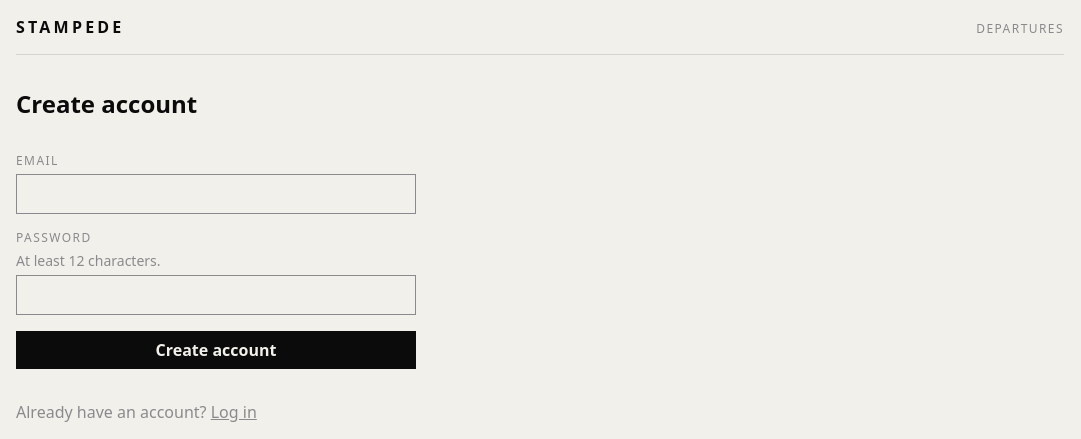
Test: RegisterPage › registers, then logs in with the same credentials and goes to next
Type "new@test.local" into the field labelled "Email" at (216, 194), box [16,174,416,214]
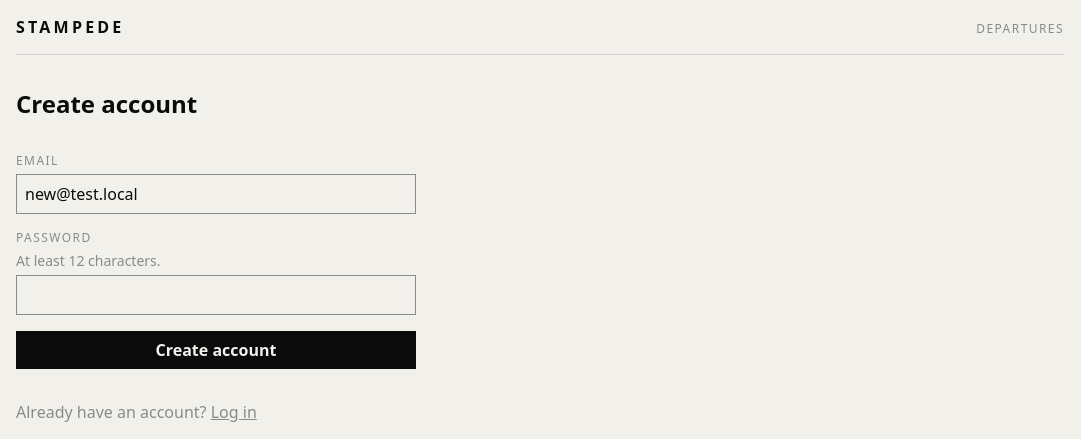
Type "a-long-enough-password" into the password field labelled "Password" at (216, 295), box [16,275,416,315]
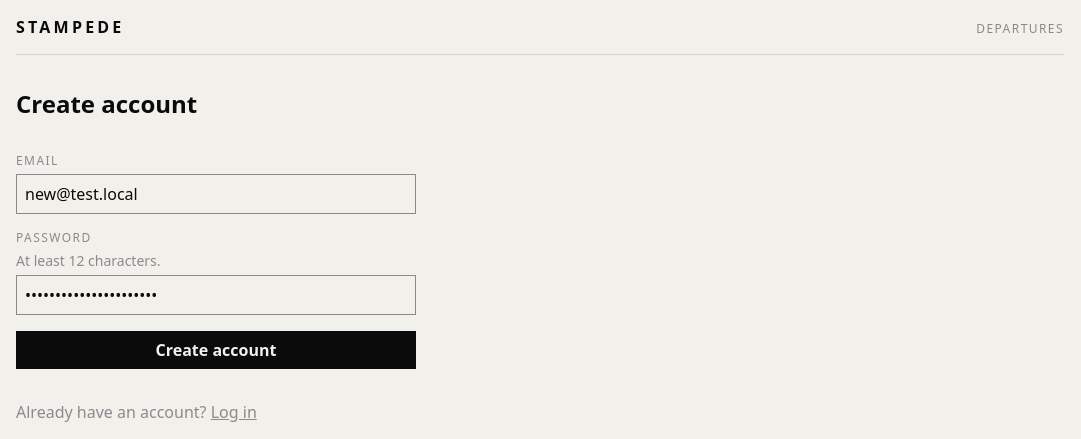
Click the button "Create account" at (216, 350), box [16,331,416,369]
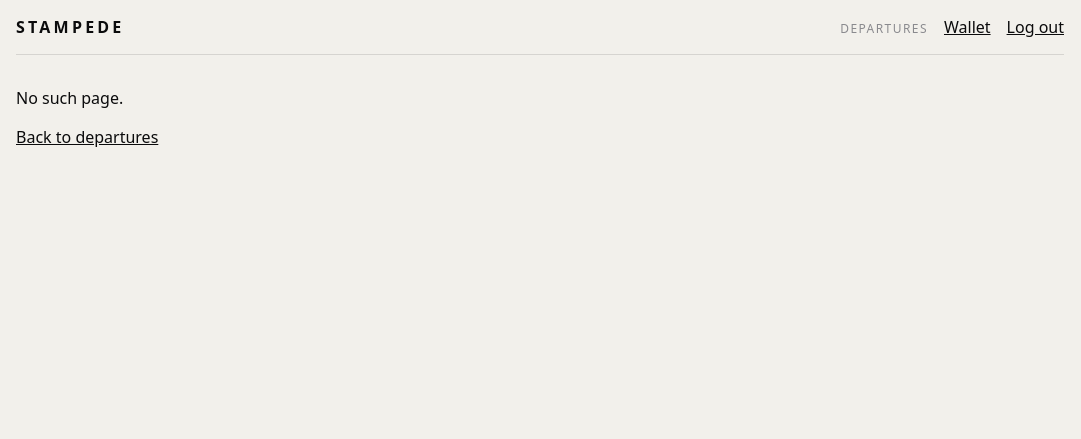
expect the button "Log out" is shown: met, box [1007,16,1064,38]
